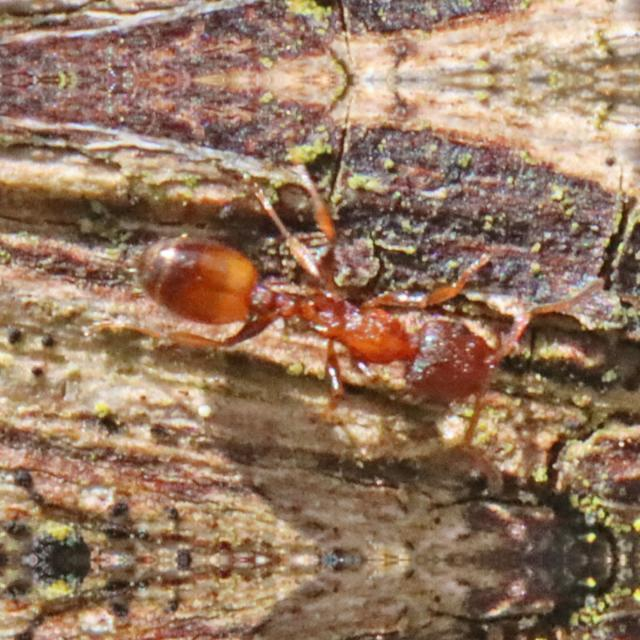Myrmica: (93, 213, 545, 429)
